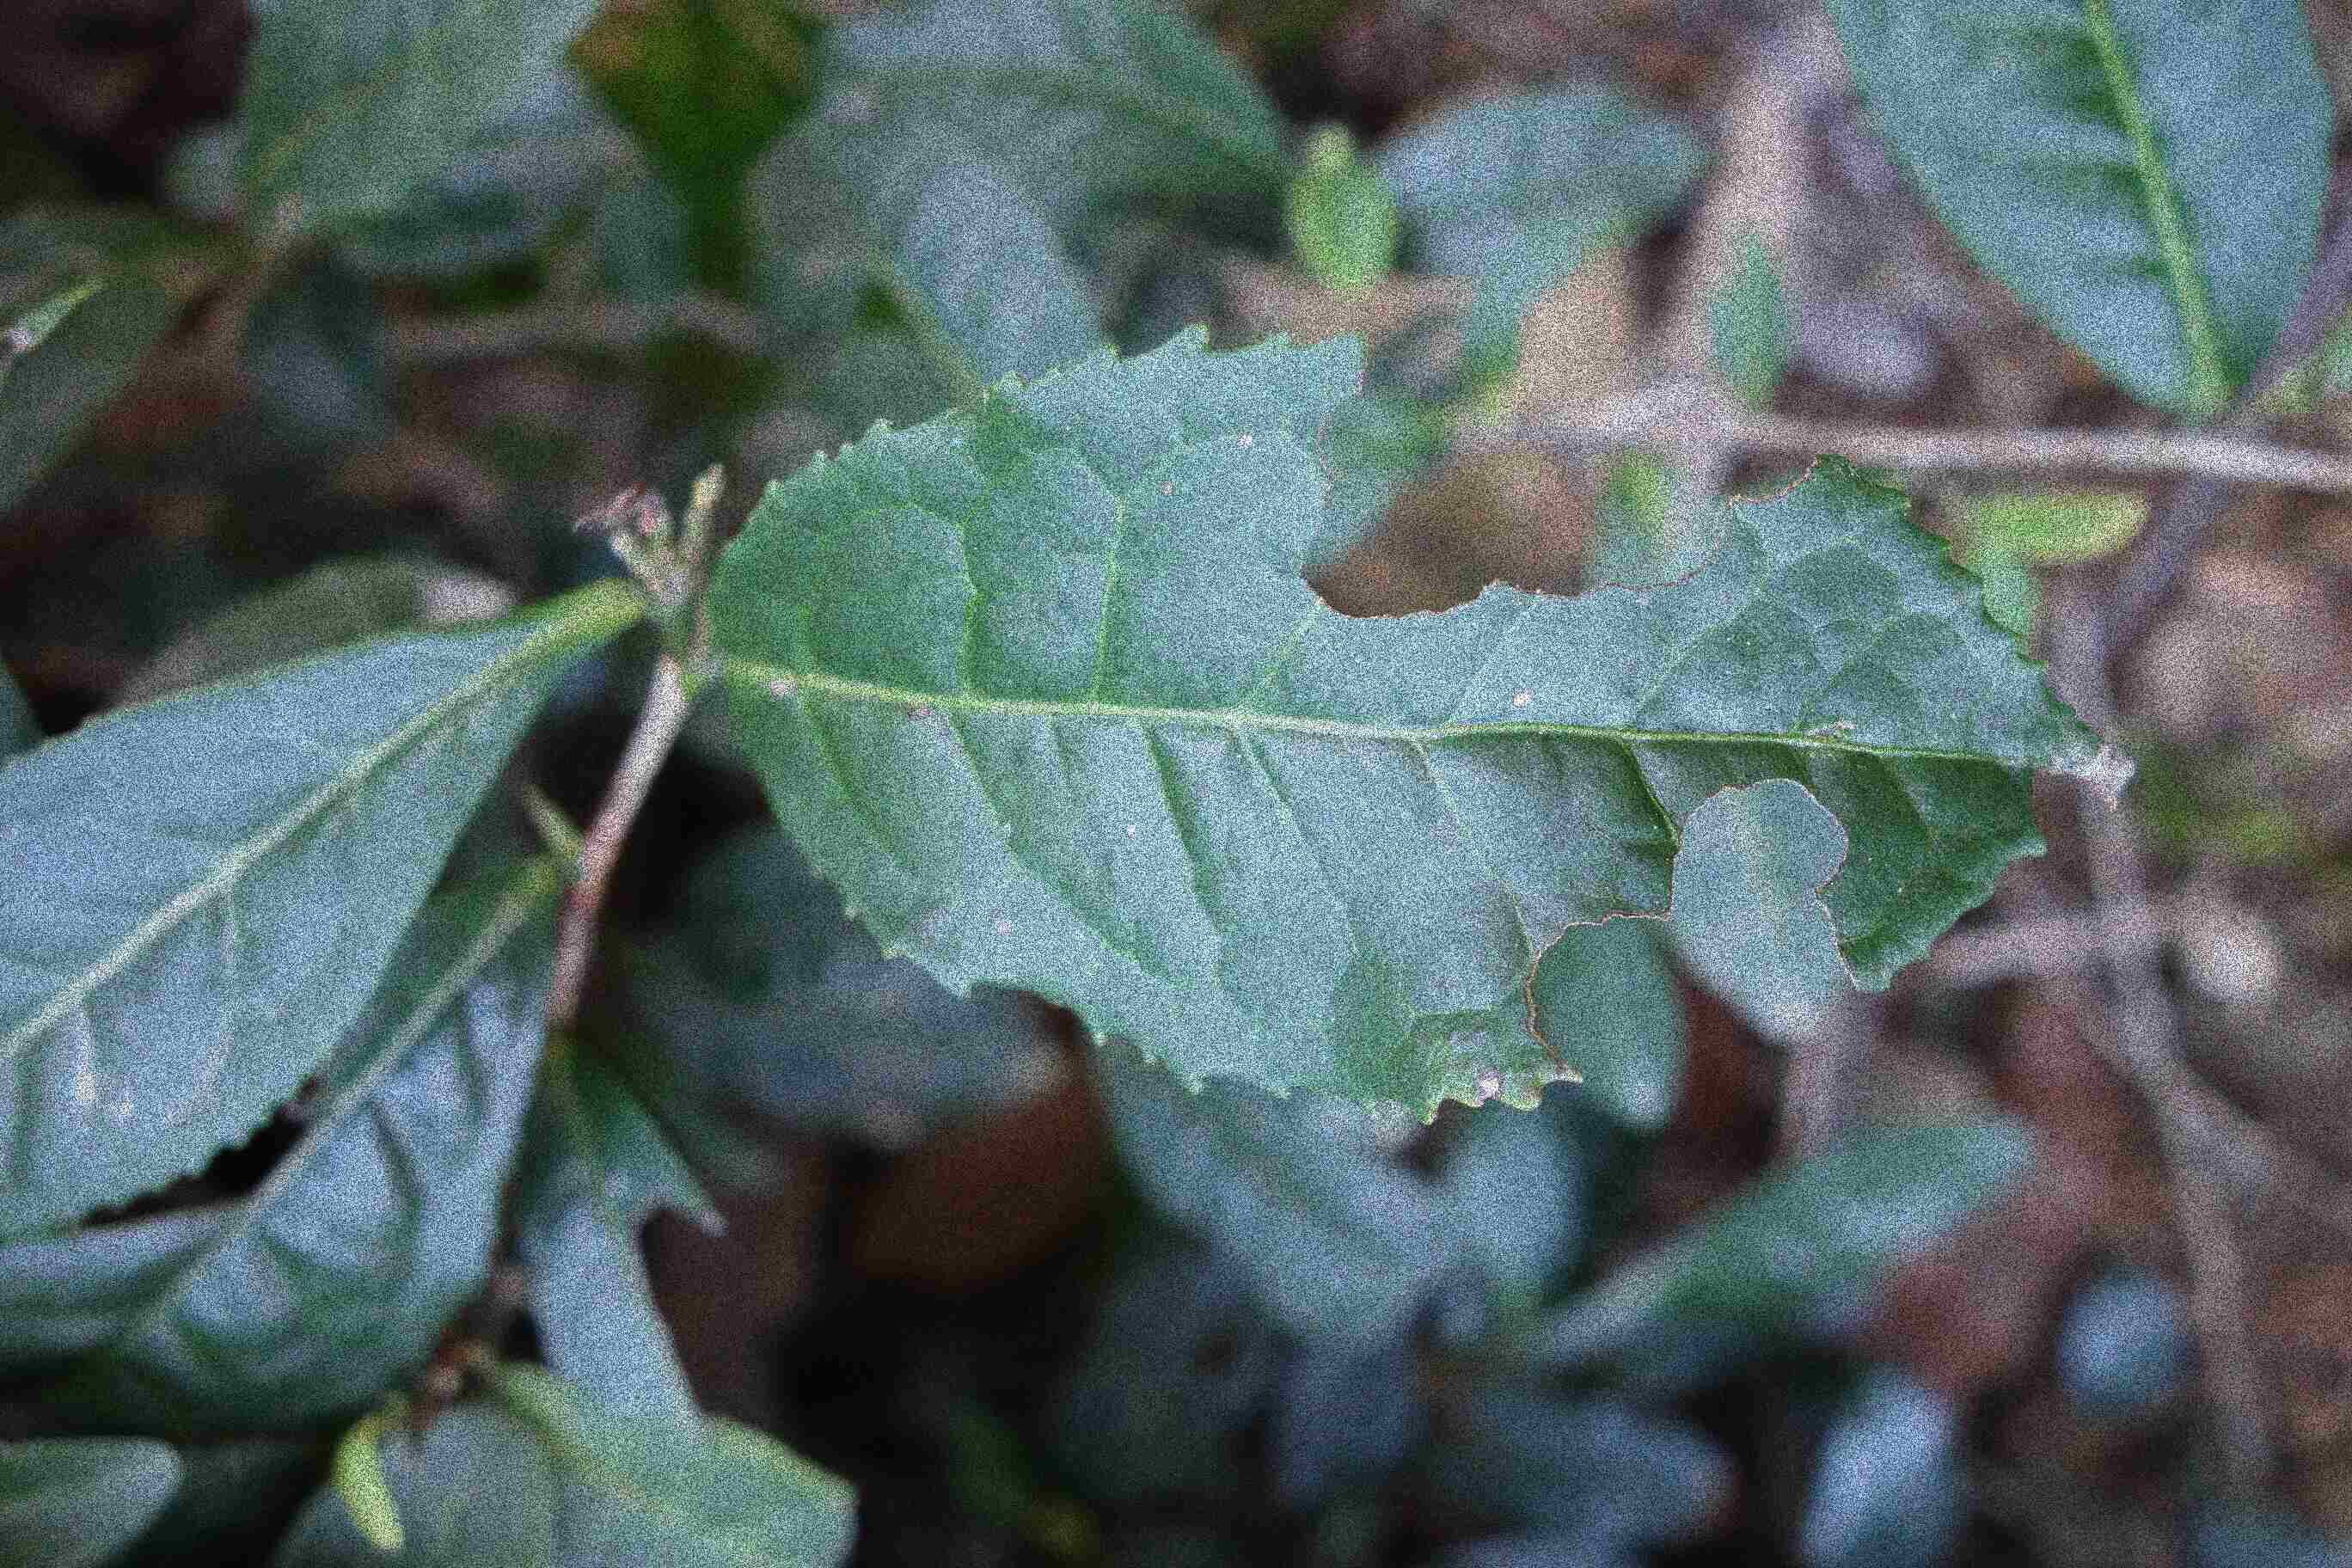chihuo_high: (707, 313, 2138, 1129)
